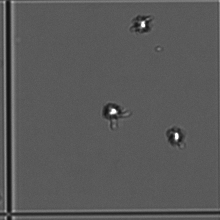Living Cell: (127, 14, 156, 39), (165, 122, 187, 146), (102, 101, 123, 123)
